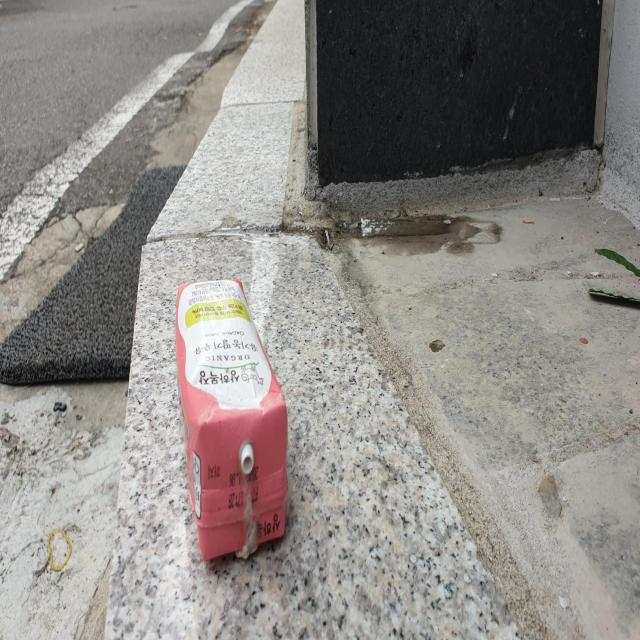paperpack: (175, 279, 288, 560)
